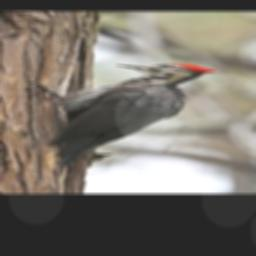Woodpecker: (27, 63, 219, 175)
